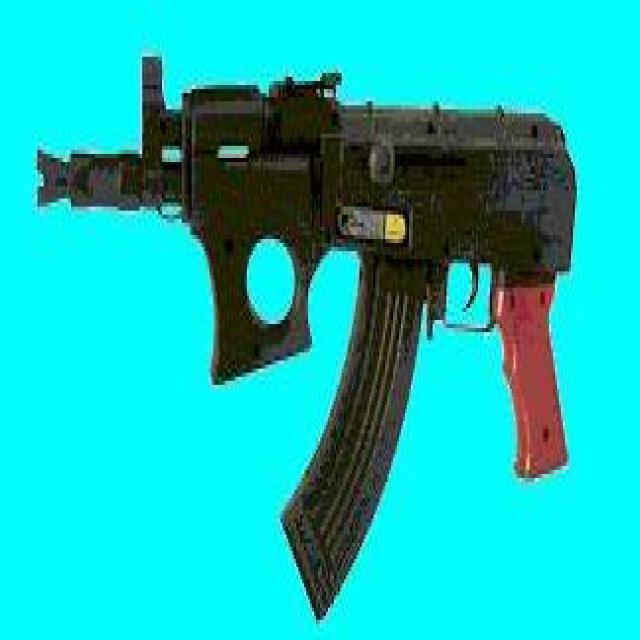Gun: (33, 10, 580, 604)
